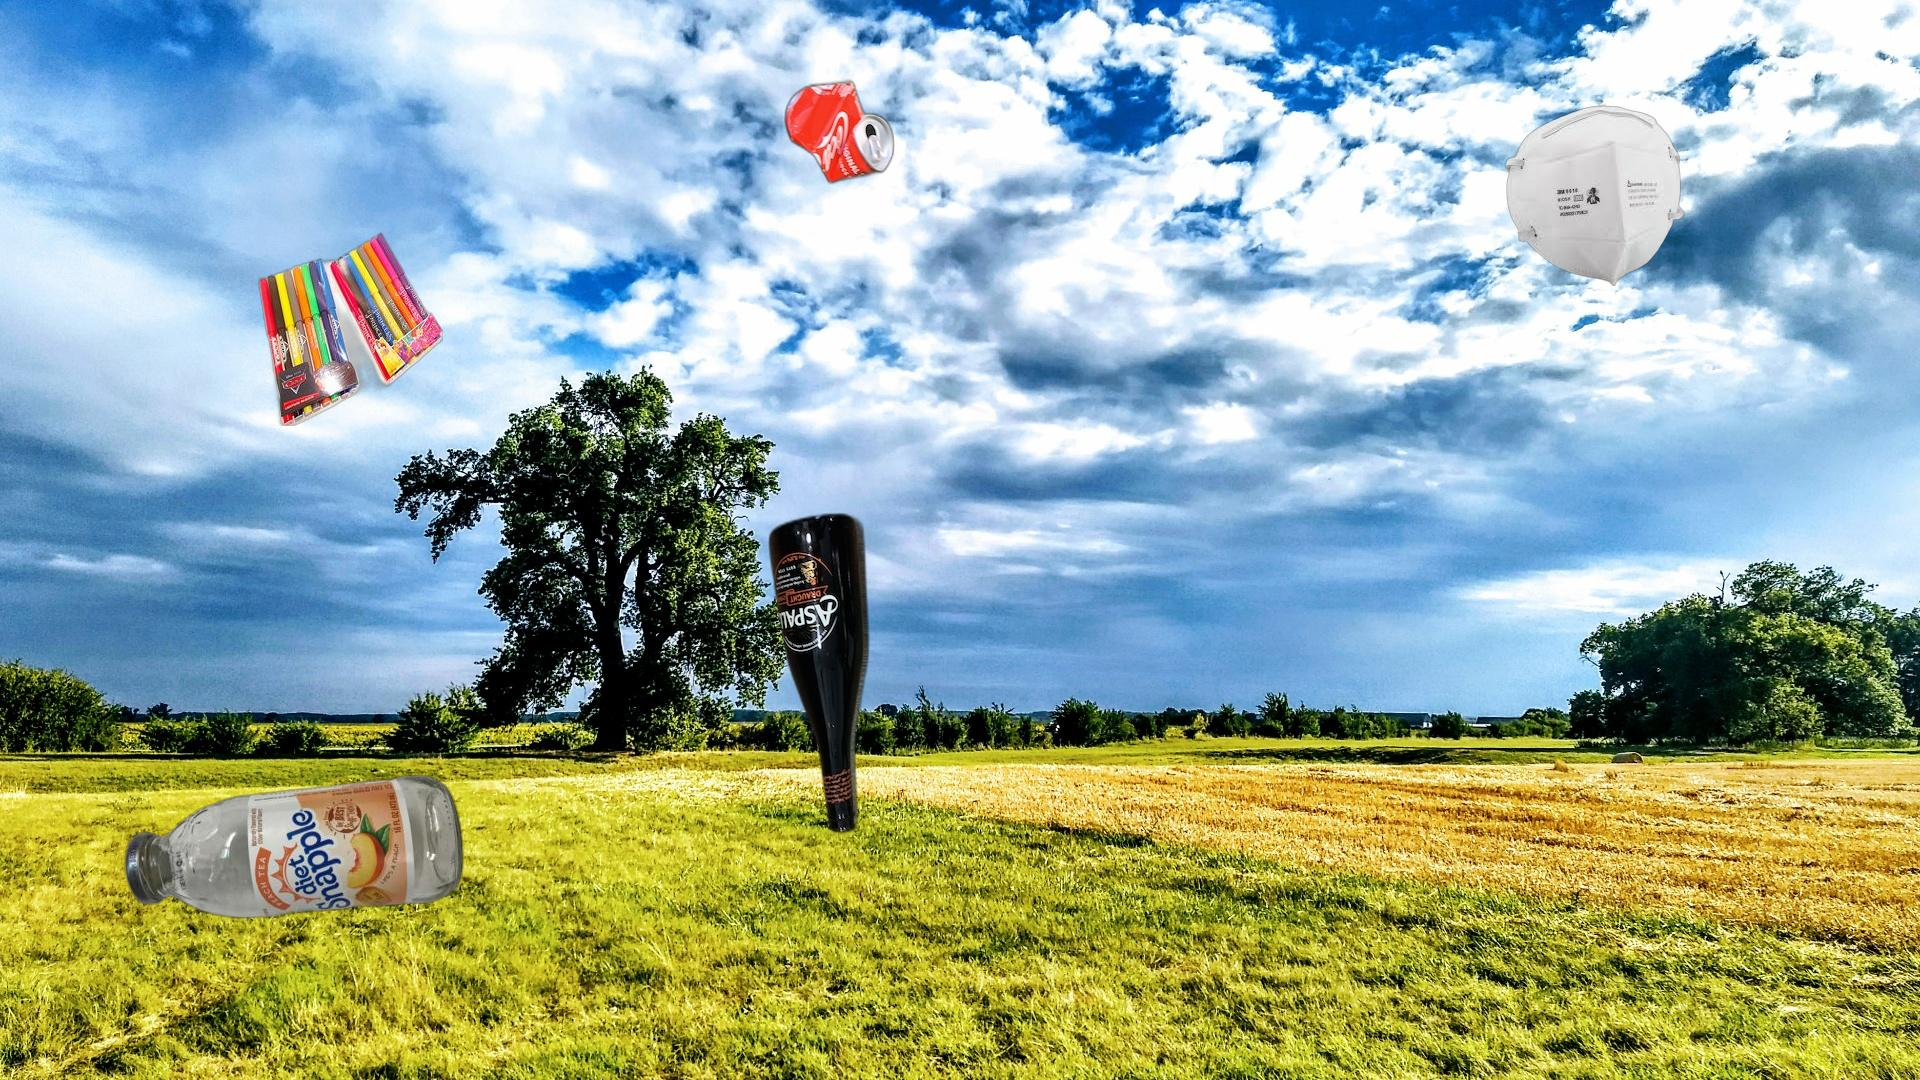glass: (121, 771, 468, 922), (764, 506, 874, 839)
metal-cans: (500, 75, 1011, 637)
penholder: (251, 229, 443, 426)
trash: (1502, 102, 1687, 286)
